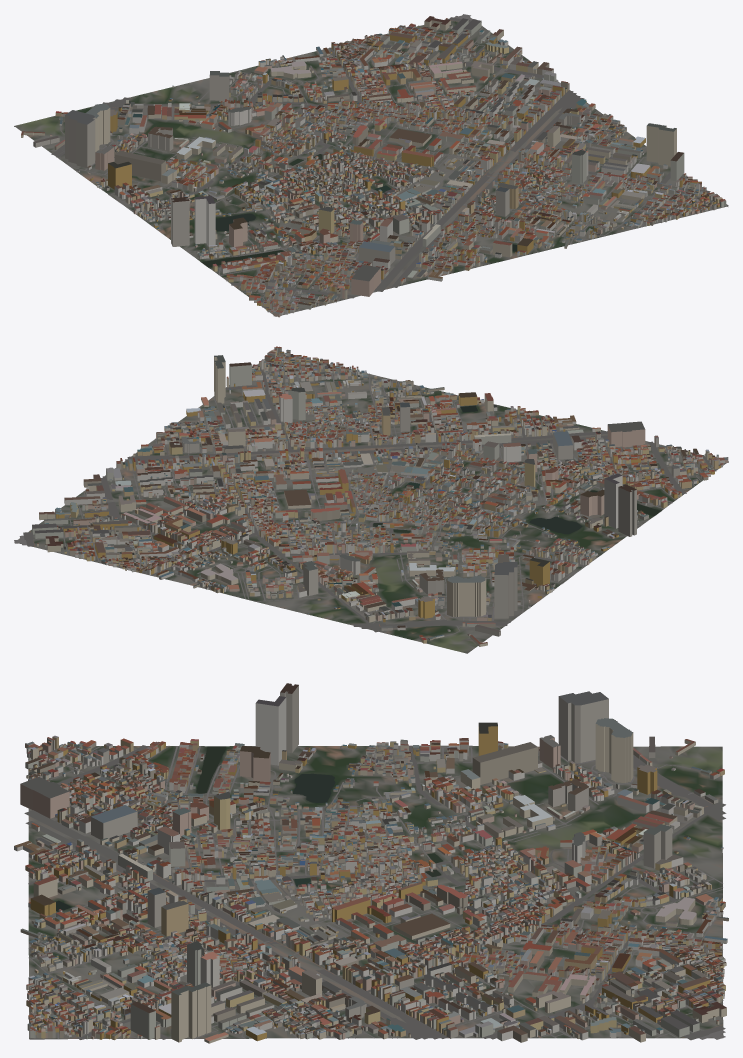
3 renders of one model, top to bottom at view 1: azimuth 30°, elevation 25°; view 2: azimuth 150°, elevation 25°; view 3: azimuth 270°, elevation 25°, orthographic. The views are drawn at different scales.
Parts seen in each view (by area): view 1: buildings, ground, roads, water; view 2: buildings, ground, roads, water; view 3: buildings, ground, roads, water.
Part boxes in pixels (x1,y1,x2,y2): buildings: [21, 16, 726, 317]; ground: [14, 15, 728, 316]; roads: [48, 14, 728, 315]; water: [202, 154, 517, 267]; buildings: [32, 346, 728, 646]; ground: [14, 353, 728, 653]; roads: [14, 356, 726, 636]; water: [373, 405, 660, 534]; buildings: [14, 683, 728, 1043]; ground: [28, 745, 723, 1039]; roads: [24, 745, 726, 1040]; water: [56, 746, 442, 911].
Bounding box in the file's own units: 1443 × 137 × 1444.
